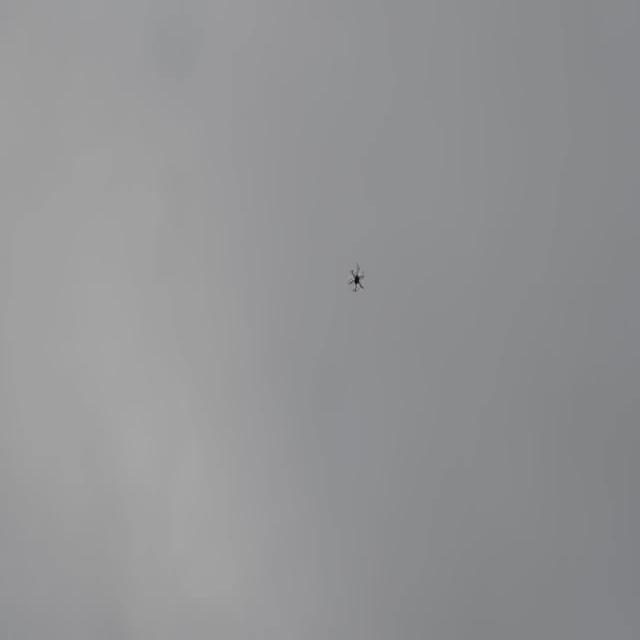drone: (347, 258, 367, 290)
